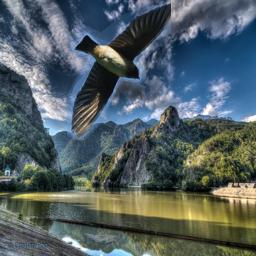Swallow: (67, 0, 171, 140)
